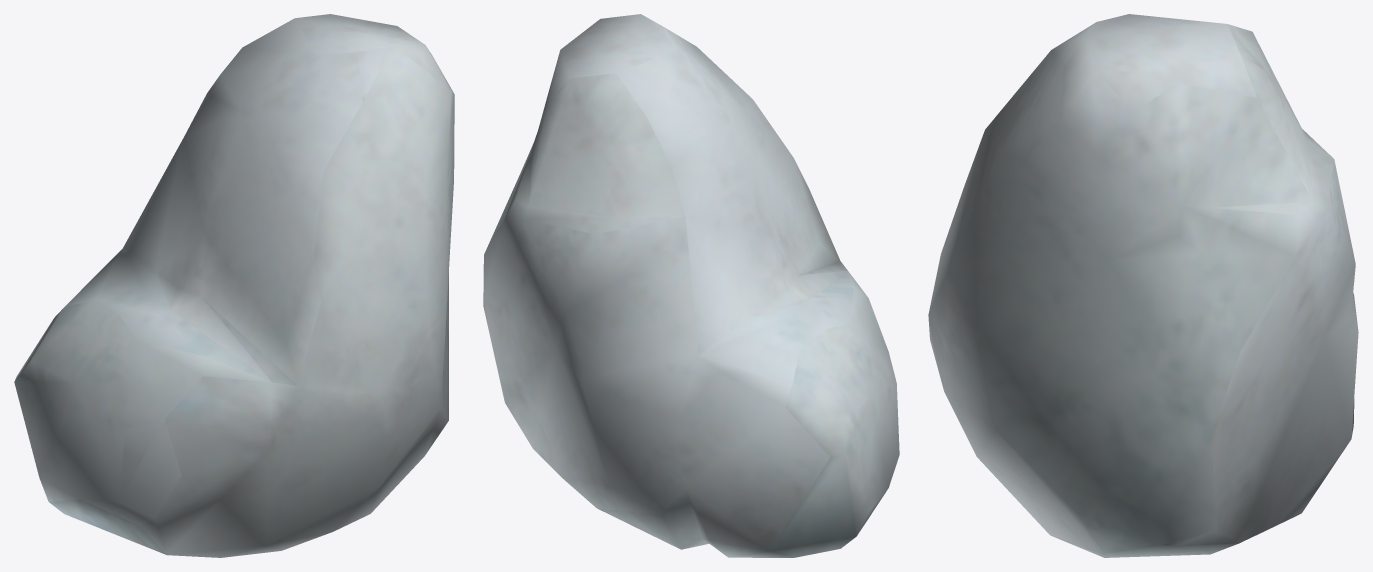
File: P_BoulderClassic3.obj
3 renders of one model, left to right at view 1: azimuth 30°, elevation 25°; view 2: azimuth 150°, elevation 25°; view 3: azimuth 270°, elevation 25°, orthographic. The views are drawn at different scales.
Bounding box in the file's own units: 8.81 × 9.71 × 6.97.
